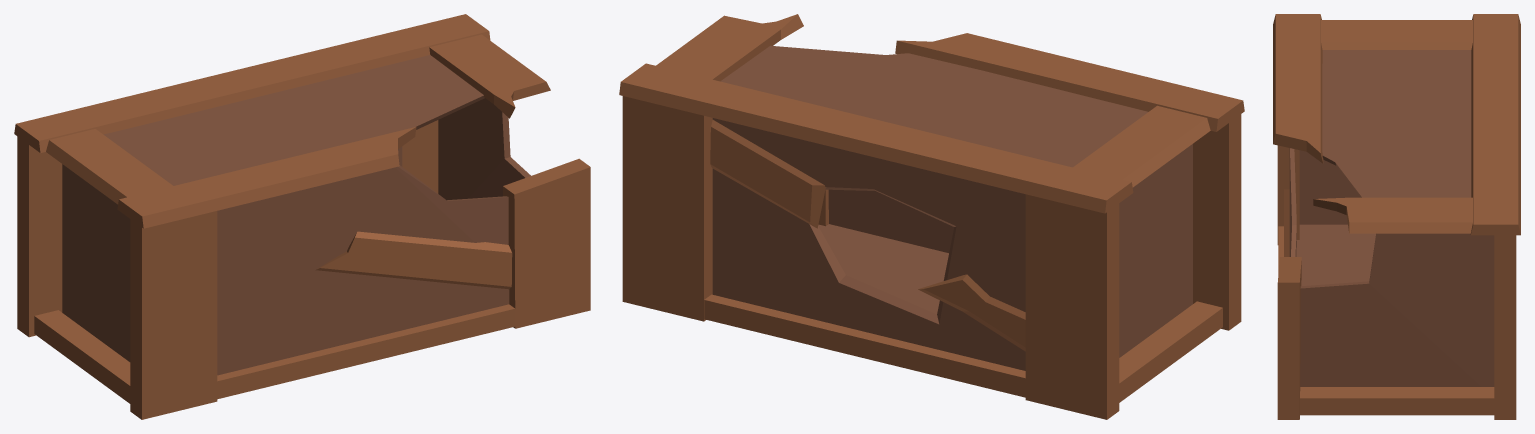
Rendered from Caixa_2_quebrada.fbx.
3 renders of one model, left to right at view 1: azimuth 30°, elevation 25°; view 2: azimuth 150°, elevation 25°; view 3: azimuth 270°, elevation 25°, orthographic. The views are drawn at different scales.
Parts seen in each view (by area): view 1: Caixa_2_quebrada; view 2: Caixa_2_quebrada; view 3: Caixa_2_quebrada.
Part boxes in pixels (x1,y1,x2,y2): Caixa_2_quebrada: [14, 14, 590, 419]; Caixa_2_quebrada: [619, 14, 1244, 419]; Caixa_2_quebrada: [1273, 14, 1520, 419].
Bounding box in the file's own units: 0.9783 × 1.97 × 0.8524.
